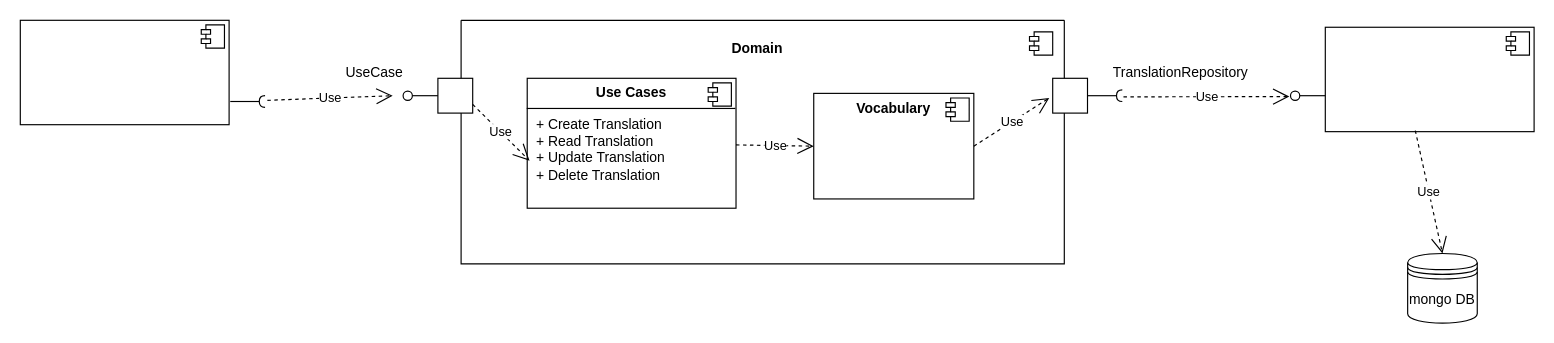
Some shapes in this 1554 by 343 pixel diagram are drawn without their labels. The centre of each missing label's shape, as x and y in pixels:
Mongo Repository: (x=1429, y=79)
Rest Handler: (x=124, y=72)
